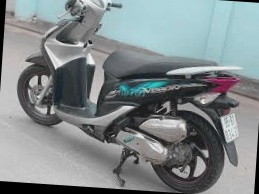Bien-so: (228, 98, 252, 132)
